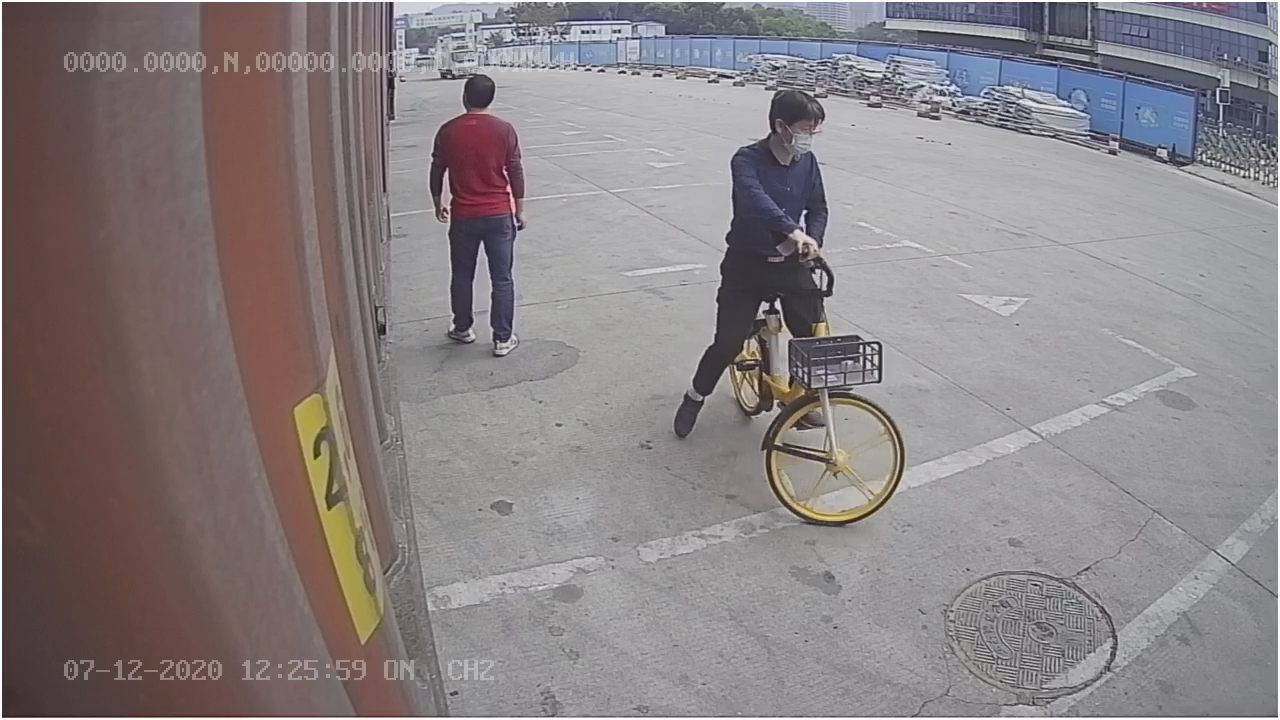person: (422, 71, 529, 362)
